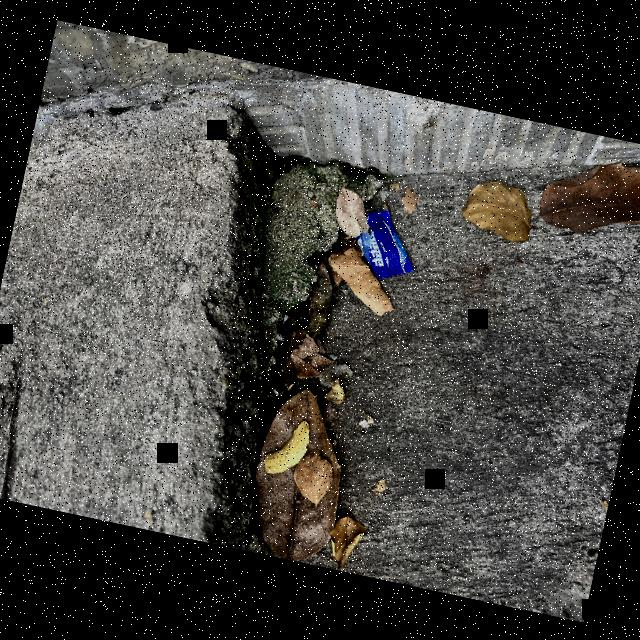scrap_plastic: (345, 203, 428, 292)
